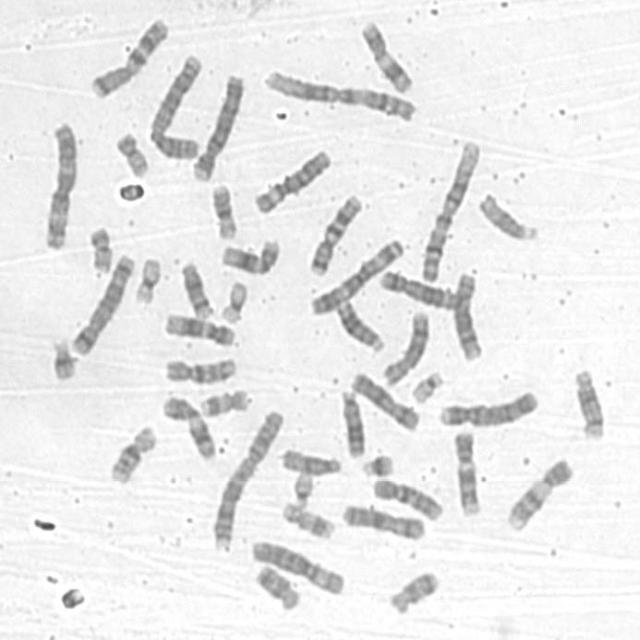A1: (416, 133, 484, 283), (259, 62, 420, 124)
A2: (208, 403, 286, 552), (145, 47, 207, 161)
A3: (306, 231, 408, 317), (39, 115, 80, 251)
B4: (188, 66, 248, 183), (434, 383, 541, 429)
B5: (66, 246, 138, 356), (375, 264, 464, 310)
C10: (369, 470, 446, 523), (160, 350, 239, 385)
C11: (356, 13, 418, 96), (158, 389, 219, 462)
C12: (160, 306, 238, 348), (217, 231, 284, 277)
C6: (247, 532, 347, 597), (250, 142, 334, 215)
C7: (85, 10, 172, 100), (304, 187, 366, 277)
C8: (379, 304, 432, 388), (448, 264, 486, 363)
C9: (502, 451, 576, 533), (449, 424, 484, 518)
D13: (331, 293, 388, 354), (336, 382, 369, 459)
D14: (569, 361, 609, 442), (176, 254, 217, 320)
D15: (474, 185, 541, 243), (276, 441, 346, 477)
E16: (105, 418, 160, 487), (207, 178, 240, 240)
E17: (277, 496, 338, 540), (196, 382, 252, 419)
E18: (384, 564, 442, 616), (250, 557, 303, 613)
F19: (130, 250, 164, 306), (216, 274, 250, 326)
F20: (111, 125, 151, 179), (85, 220, 116, 276)
G21: (47, 330, 80, 383), (358, 446, 397, 479)
G22: (407, 364, 447, 405), (289, 466, 317, 510)
X: (346, 365, 423, 433), (337, 496, 428, 542)
